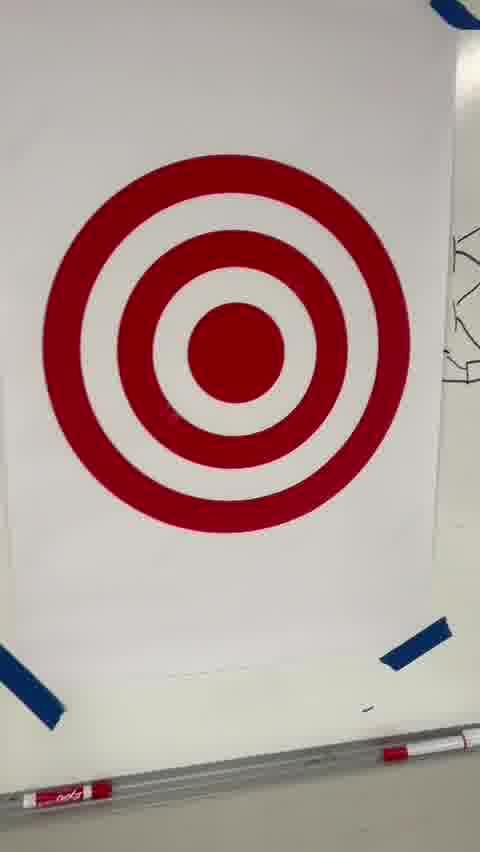target_red: (41, 156, 411, 533)
